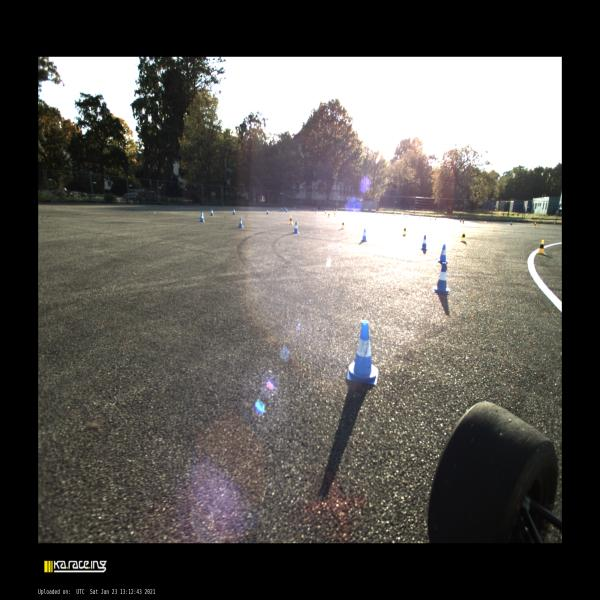blue_cone: (346, 319, 379, 386), (433, 261, 450, 295), (438, 244, 448, 262), (420, 235, 428, 250), (292, 221, 300, 234), (361, 228, 367, 242), (237, 218, 244, 228), (200, 213, 204, 222), (200, 210, 204, 218), (210, 209, 214, 215), (232, 208, 236, 214), (266, 209, 269, 214), (510, 220, 512, 225), (280, 207, 282, 211), (284, 206, 286, 210), (286, 208, 288, 212), (419, 216, 421, 219), (294, 206, 295, 210), (336, 208, 337, 212), (435, 218, 437, 220), (404, 214, 405, 217), (460, 219, 461, 222), (314, 208, 315, 210), (358, 210, 358, 213)
yellow_cone: (537, 240, 545, 254), (459, 230, 467, 242), (402, 225, 407, 236), (288, 215, 293, 225), (340, 220, 344, 230), (328, 212, 330, 218), (324, 209, 326, 215), (534, 222, 536, 228), (315, 209, 317, 214), (334, 211, 336, 216), (463, 218, 464, 224), (376, 211, 377, 215), (430, 217, 431, 221), (334, 209, 335, 212), (354, 209, 355, 212), (406, 216, 407, 219), (394, 214, 395, 216)
